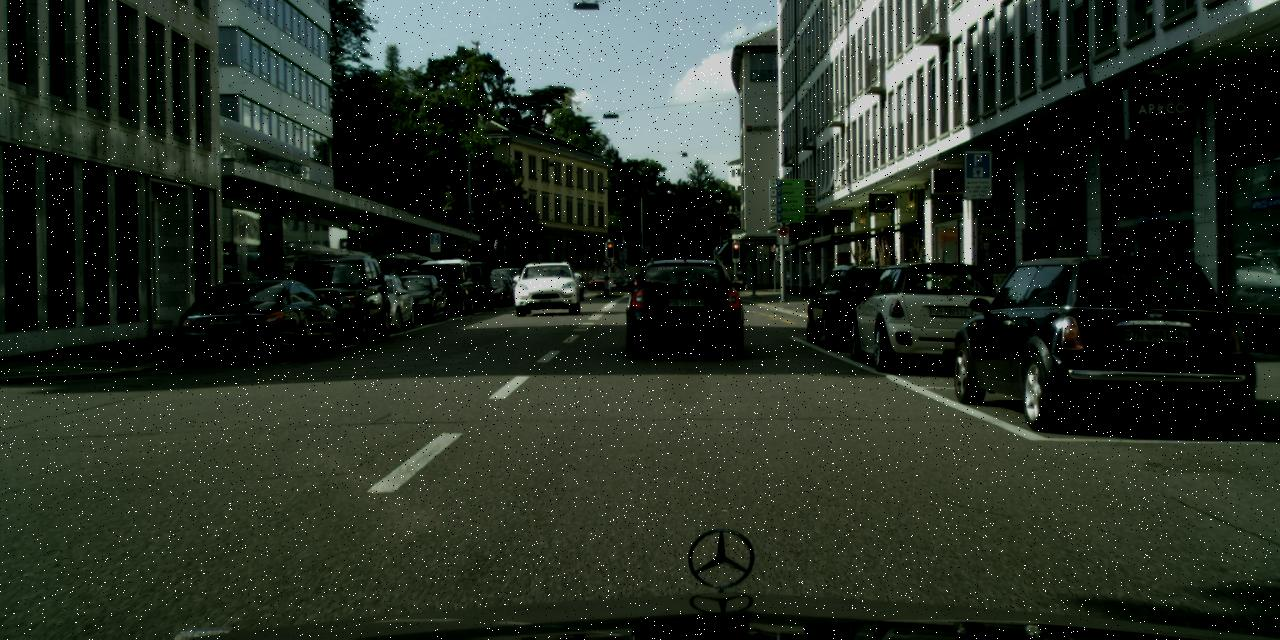ped: (394, 263, 412, 306)
